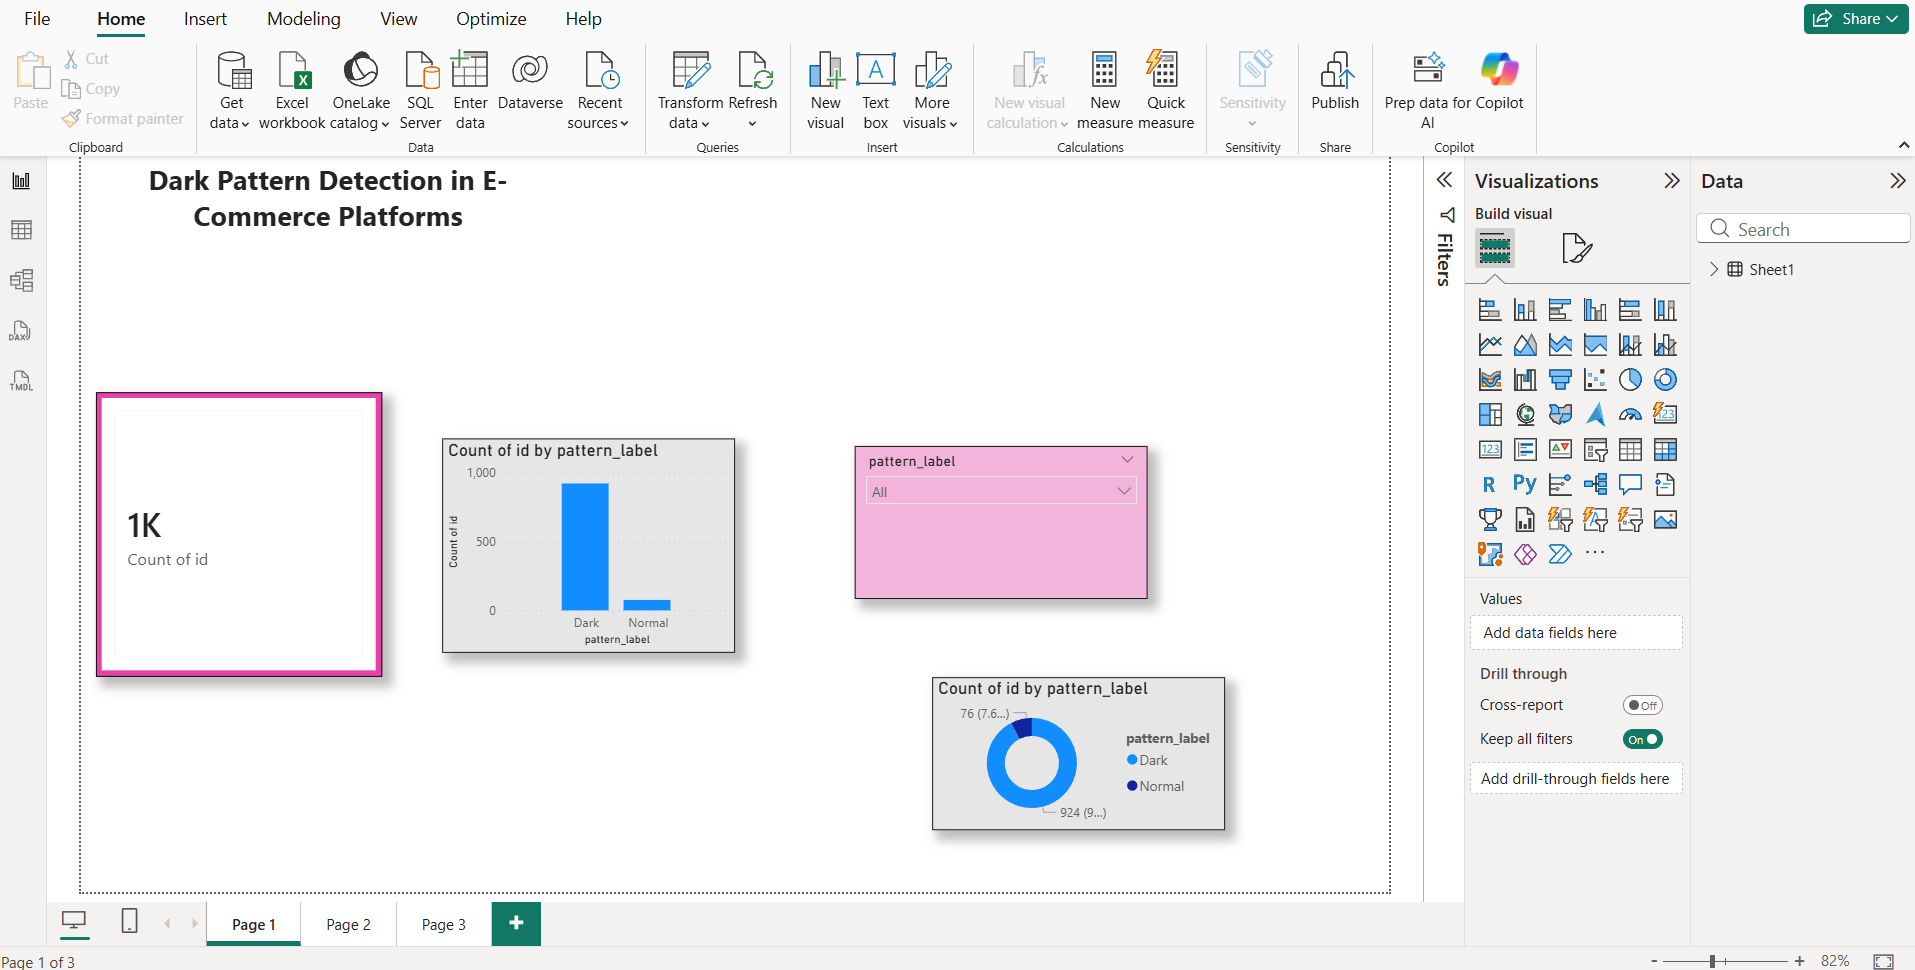

What the dashboard file says about the page in this screenshot:
{"tool":"powerbi","page":{"name":"Page 1","canvas":[1280,720],"ordinal":0},"visuals":[{"type":"cardVisual","fields":{"Data":["CountNonNull(Sheet1.id)"]},"box":[14.7,230.7,280,278.7],"z":0},{"type":"textbox","box":[15.1,0,454.2,89.2],"z":1000},{"type":"clusteredColumnChart","fields":{"Category":["Sheet1.pattern_label"],"Y":["CountNonNull(Sheet1.id)"]},"box":[353.3,276,286.7,209.3],"z":2000},{"type":"slicer","fields":{"Values":["Sheet1.pattern_label"]},"box":[757.5,284,286.8,149.6],"z":3000},{"type":"donutChart","fields":{"Category":["Sheet1.pattern_label"],"Y":["CountNonNull(Sheet1.id)"]},"box":[833.3,509.3,286.7,149.3],"z":4000}]}

Visuals, with their boxes on the page's 1280x720 design canvas (x1, y1, x2, y2). These are canvas units, not pixel positions in the 1915x970 screenshot, which may show the page scaled, cropped or inside an application window:
cardVisual - CountNonNull(Sheet1.id): <box>15,231,295,509</box>
textbox: <box>15,0,469,89</box>
clusteredColumnChart - Sheet1.pattern_label x CountNonNull(Sheet1.id): <box>353,276,640,485</box>
slicer - Sheet1.pattern_label: <box>758,284,1044,434</box>
donutChart - Sheet1.pattern_label x CountNonNull(Sheet1.id): <box>833,509,1120,659</box>
